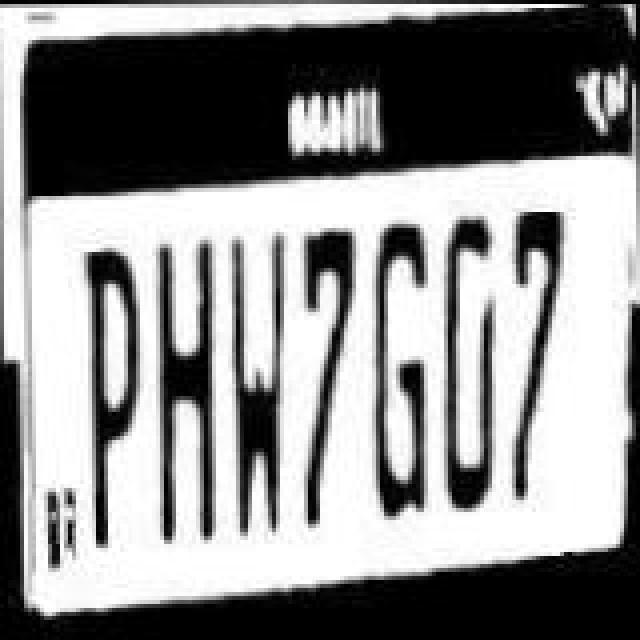7: (498, 206, 578, 506), (294, 220, 374, 512)
D: (432, 208, 516, 512)
G: (364, 220, 440, 516)
H: (152, 248, 216, 544)
P: (82, 250, 150, 542)
W: (230, 228, 302, 520)
